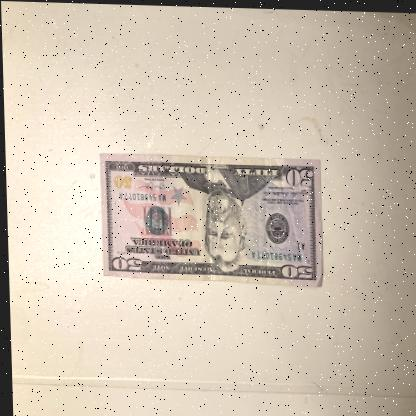fifty-front: (97, 151, 322, 284)
